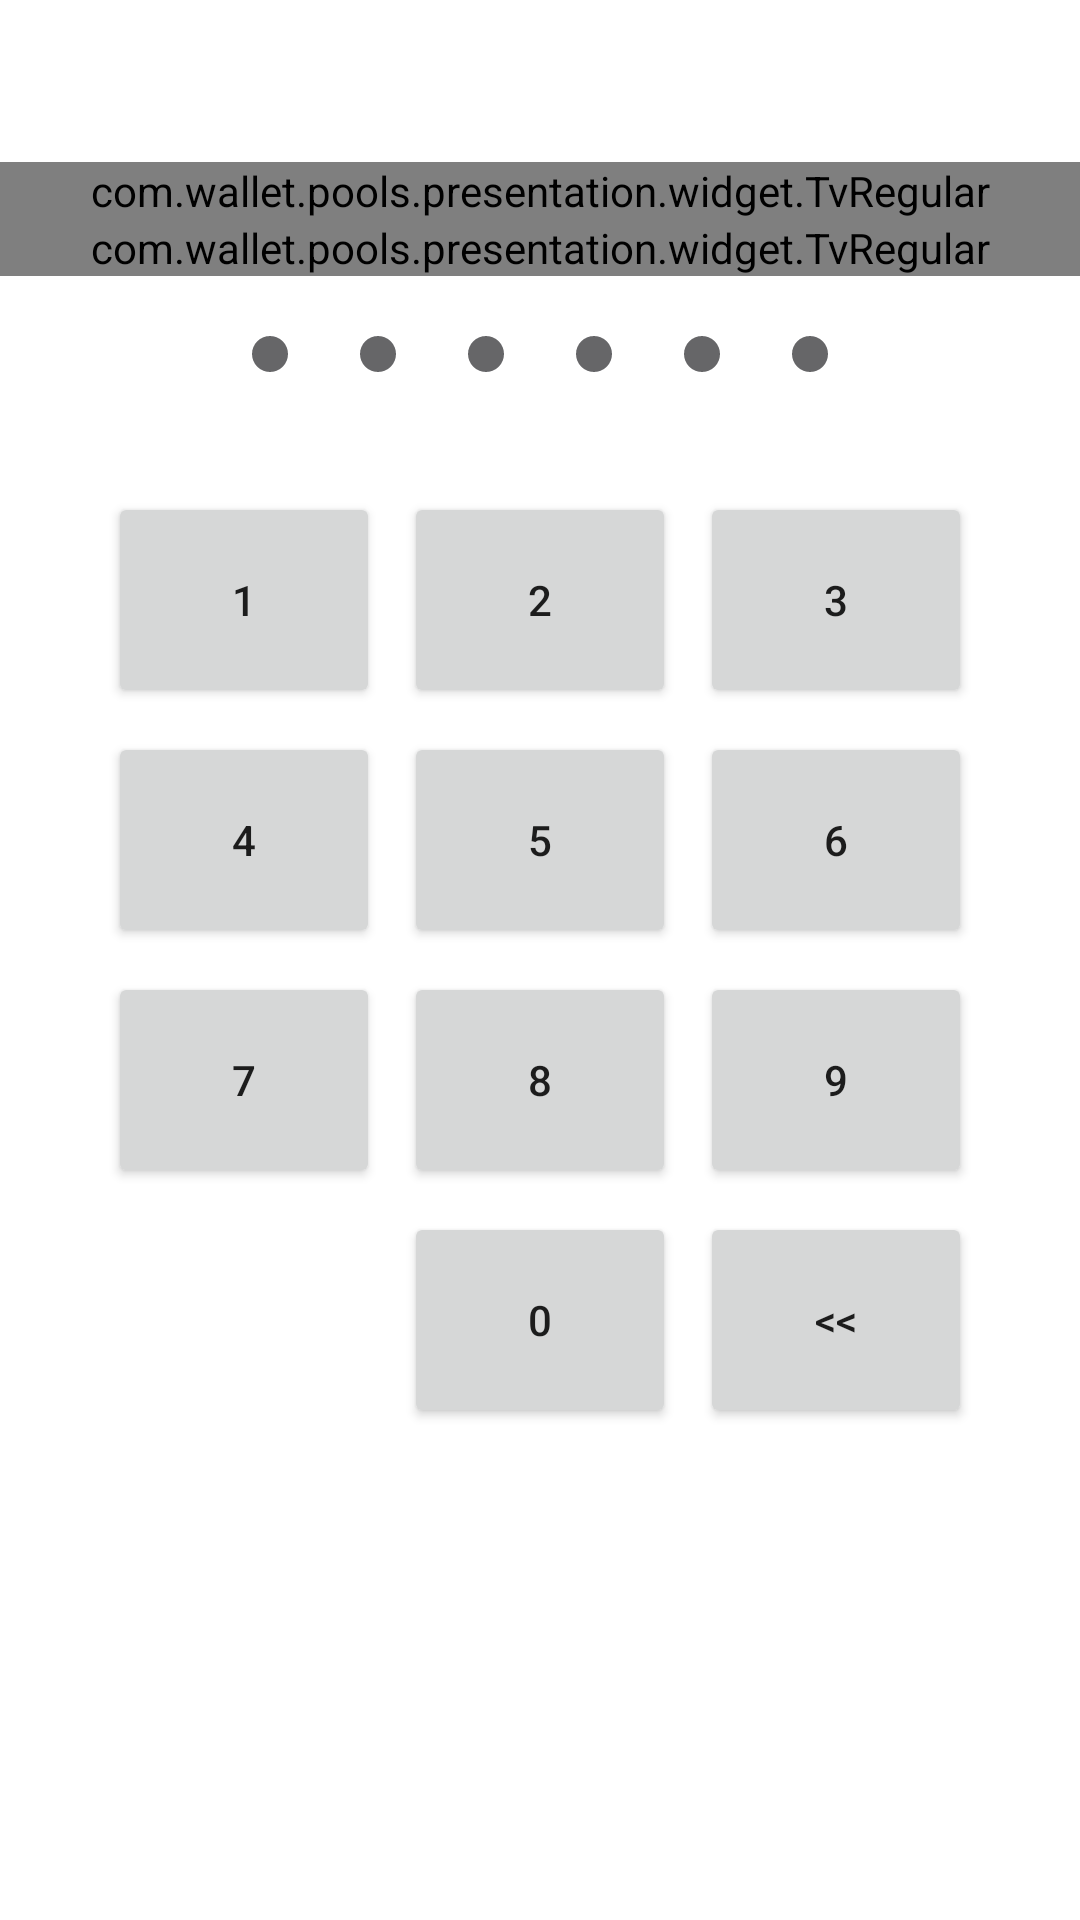

Named icons in this screenshot (1080px x 1920px) and their centers, point (x, y):
pin empty: point (270, 354), point (378, 354), point (486, 354), point (594, 354), point (702, 354), point (810, 354)
